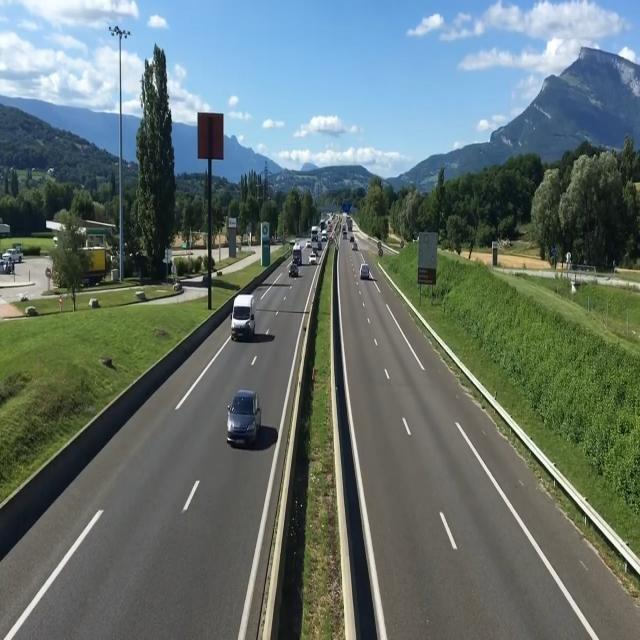Car: (225, 387, 262, 448), (2, 248, 24, 262), (288, 264, 299, 277), (308, 253, 316, 265), (305, 240, 313, 249)
Truck: (310, 226, 319, 241)
Van: (230, 294, 257, 340), (292, 241, 303, 266), (359, 263, 370, 279), (321, 229, 328, 242)
